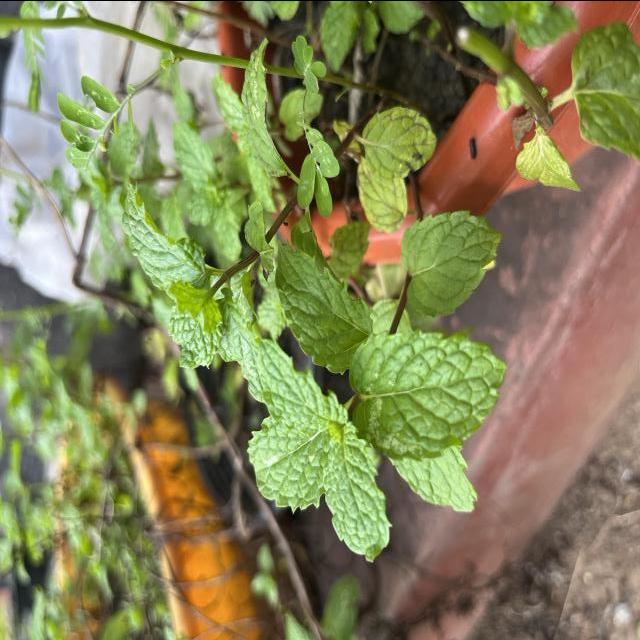Mentha spicata: (348, 326, 508, 463), (274, 238, 376, 375), (398, 206, 504, 320), (322, 421, 392, 564), (246, 414, 326, 514)
